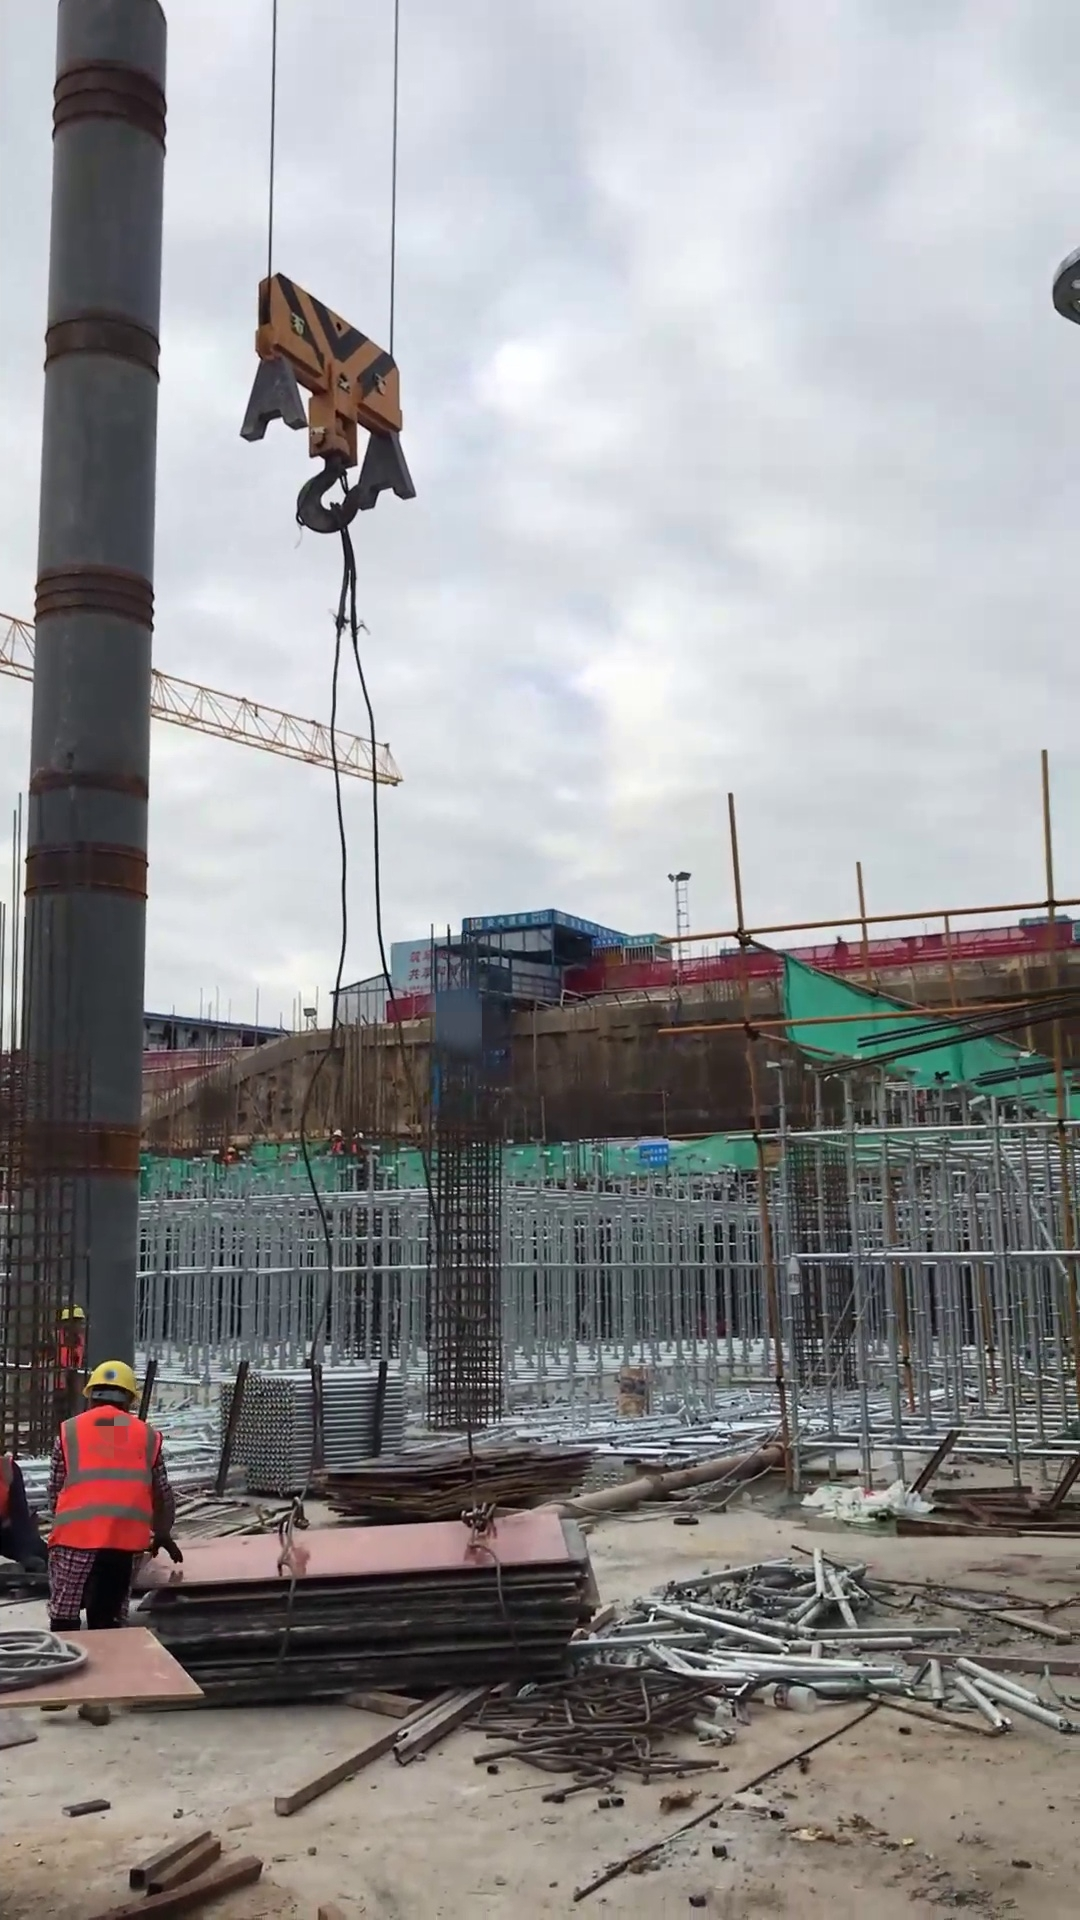board: (122, 1515, 579, 1694), (313, 1440, 598, 1522)
helmet: (79, 1355, 145, 1405)
hook: (238, 271, 421, 538)
person: (42, 1356, 186, 1634)
scaffold: (217, 1366, 410, 1496)
slogan: (468, 914, 658, 945), (405, 943, 447, 983), (638, 1139, 670, 1169)
vest: (42, 1406, 166, 1558), (54, 1326, 88, 1373)
